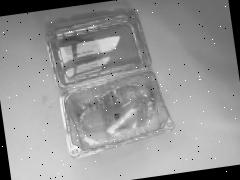plastic: (6, 0, 240, 176)
